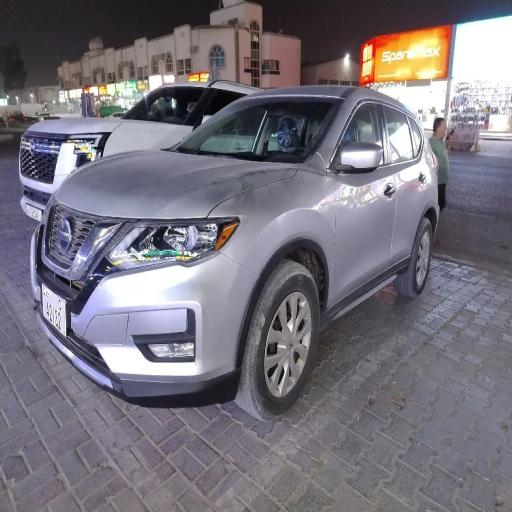license-plates: (42, 282, 66, 338), (25, 203, 42, 222)
